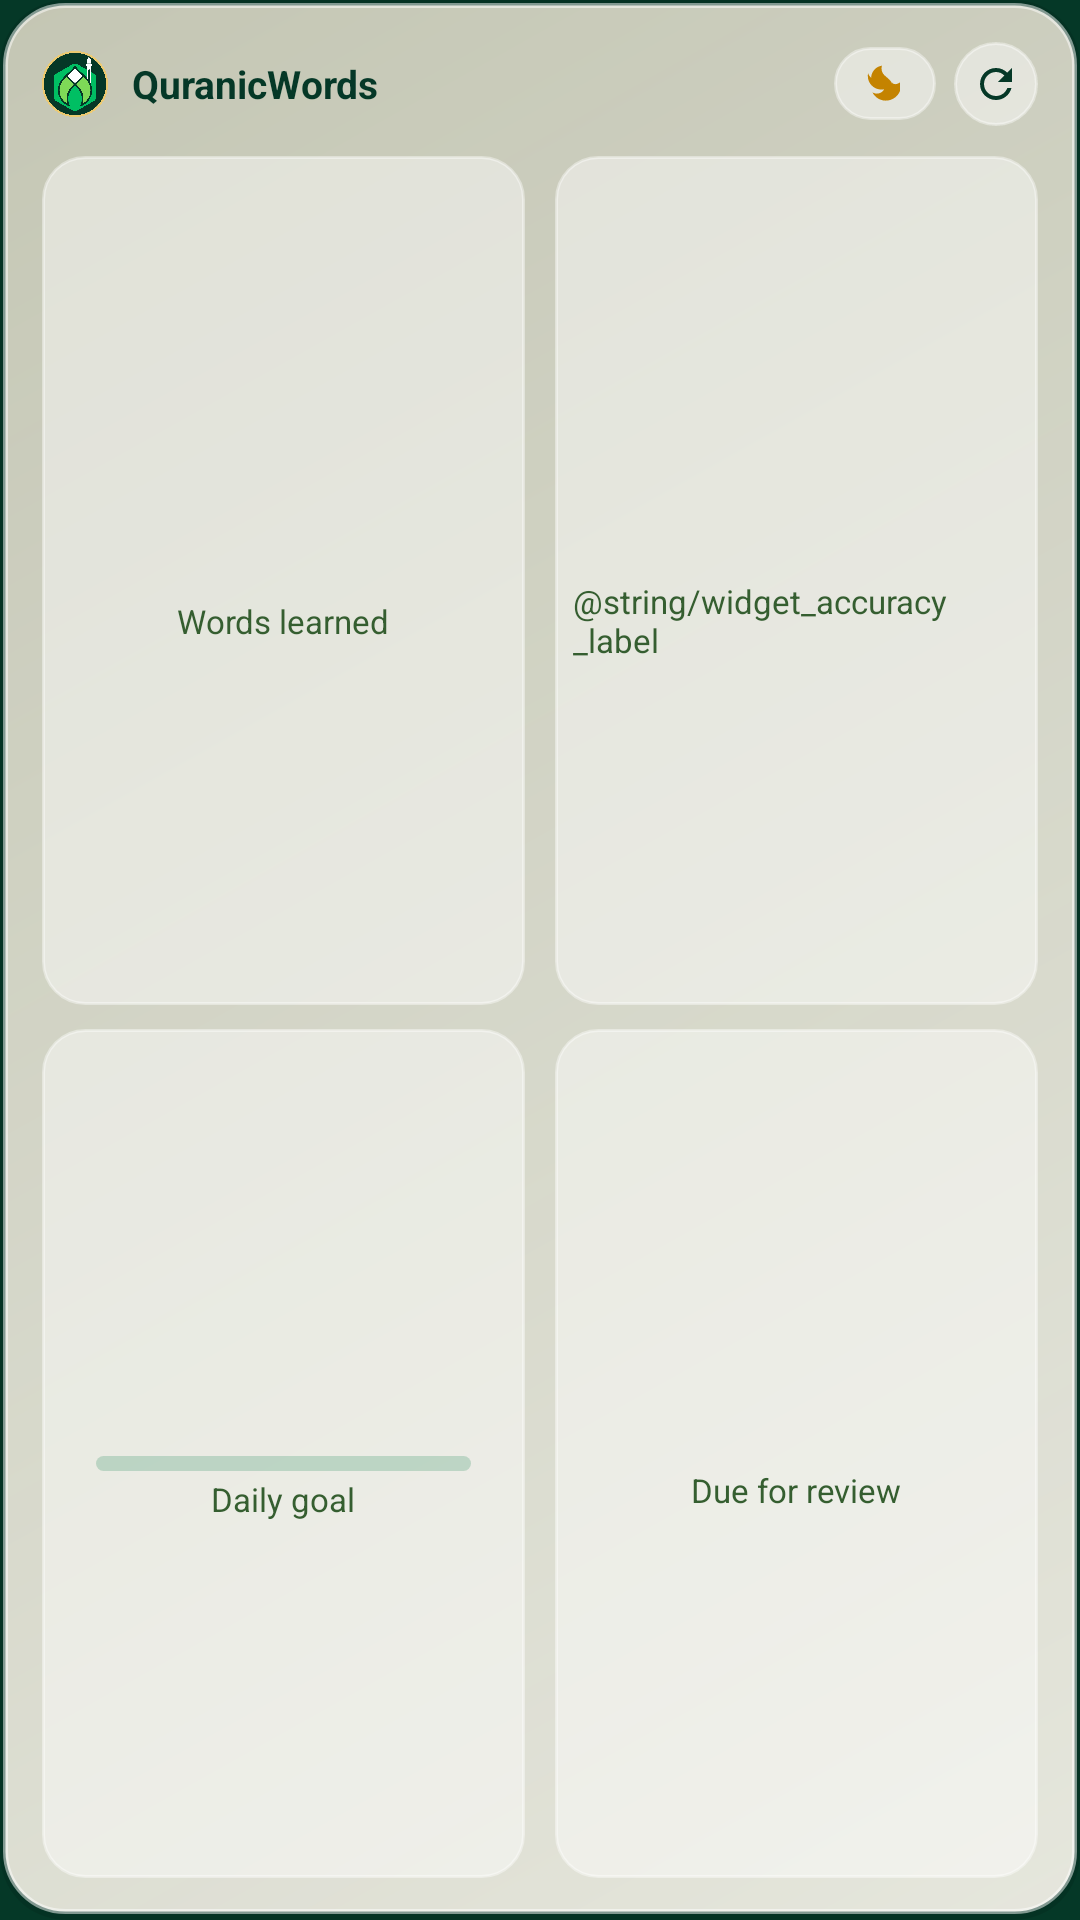

Icons on this 1080*1920 Android screen, each with the point to tap as (x,y):
Sabunta: (996,84)
widget flame: (883,83)
